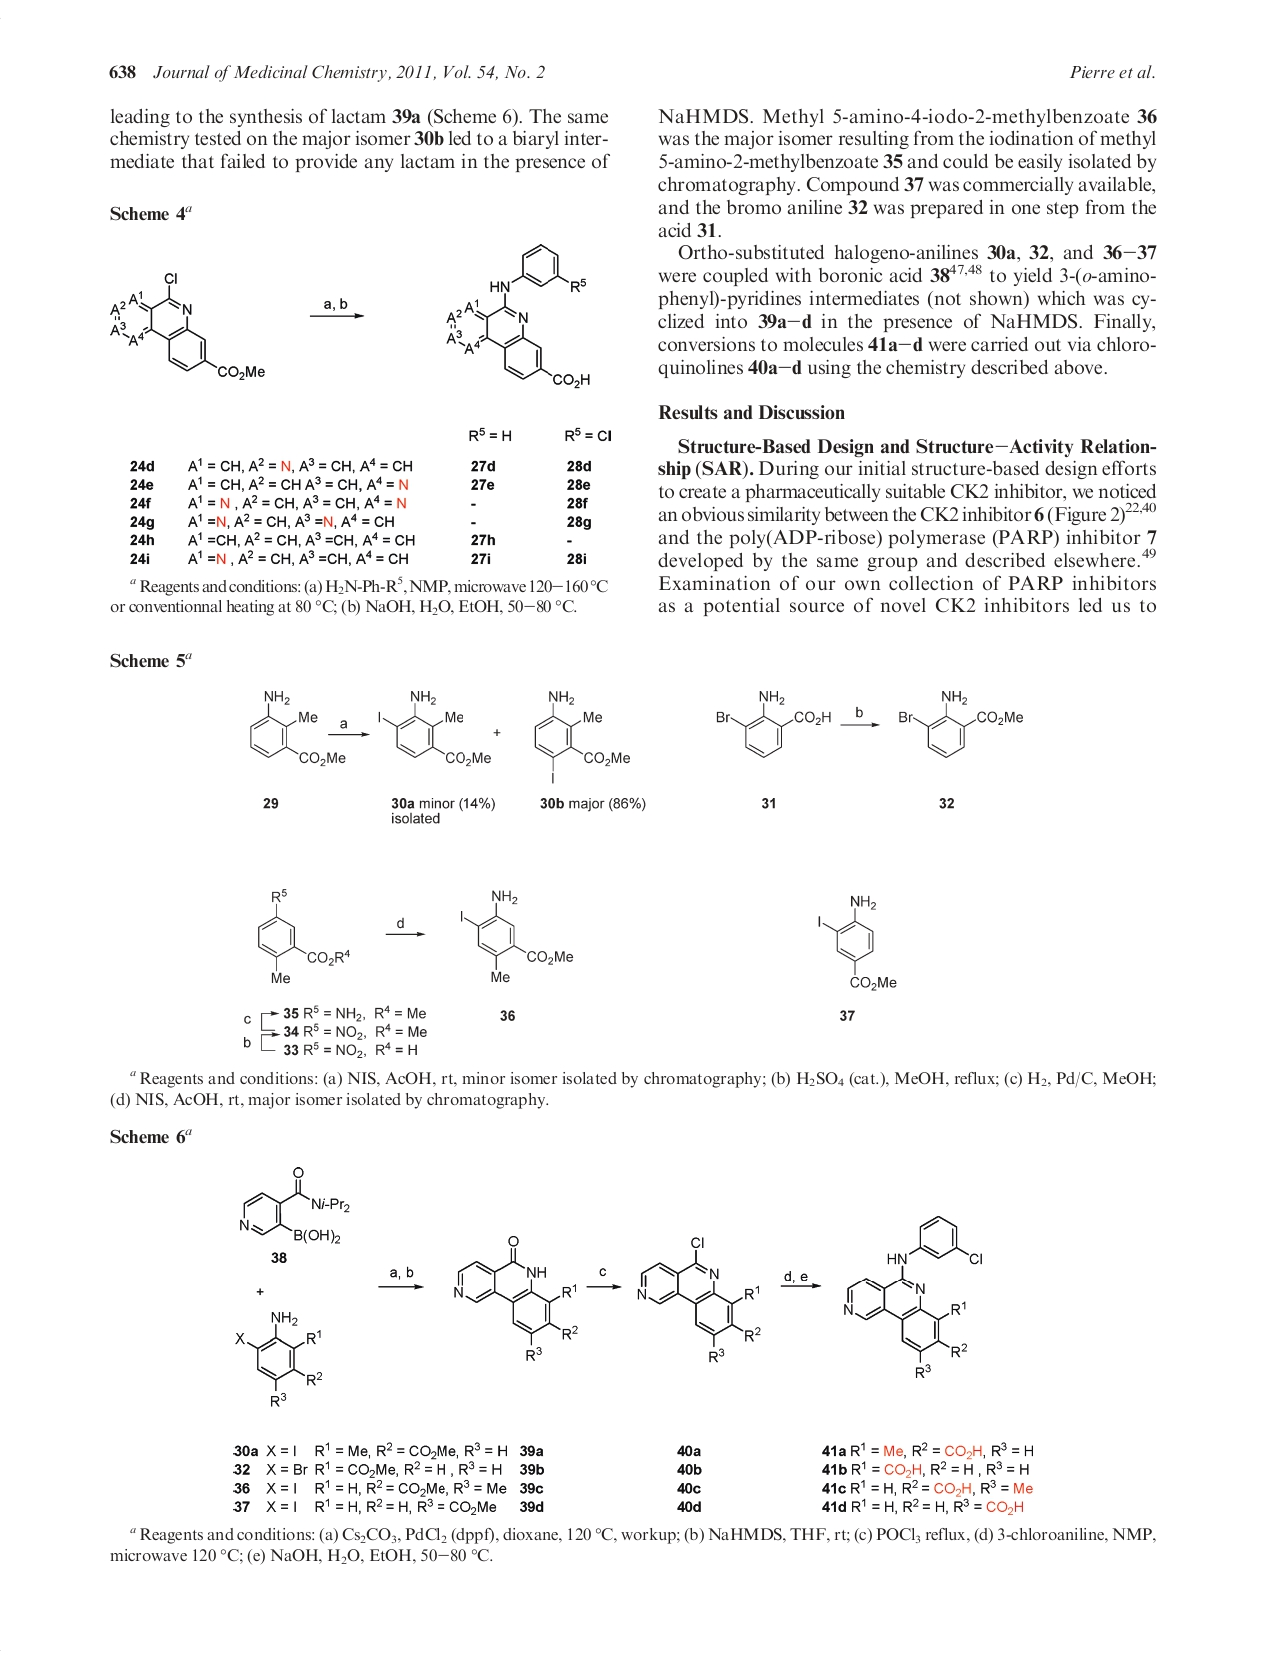exist_molecular: (840, 1212, 984, 1380), (444, 242, 596, 394), (104, 269, 274, 384), (449, 1233, 581, 1363), (636, 1235, 762, 1363), (455, 884, 577, 985), (233, 1306, 332, 1410), (531, 688, 634, 786), (254, 884, 352, 985), (813, 887, 902, 996), (235, 1165, 352, 1247), (895, 686, 1025, 759), (376, 688, 493, 769), (711, 684, 832, 759), (246, 686, 350, 769)
